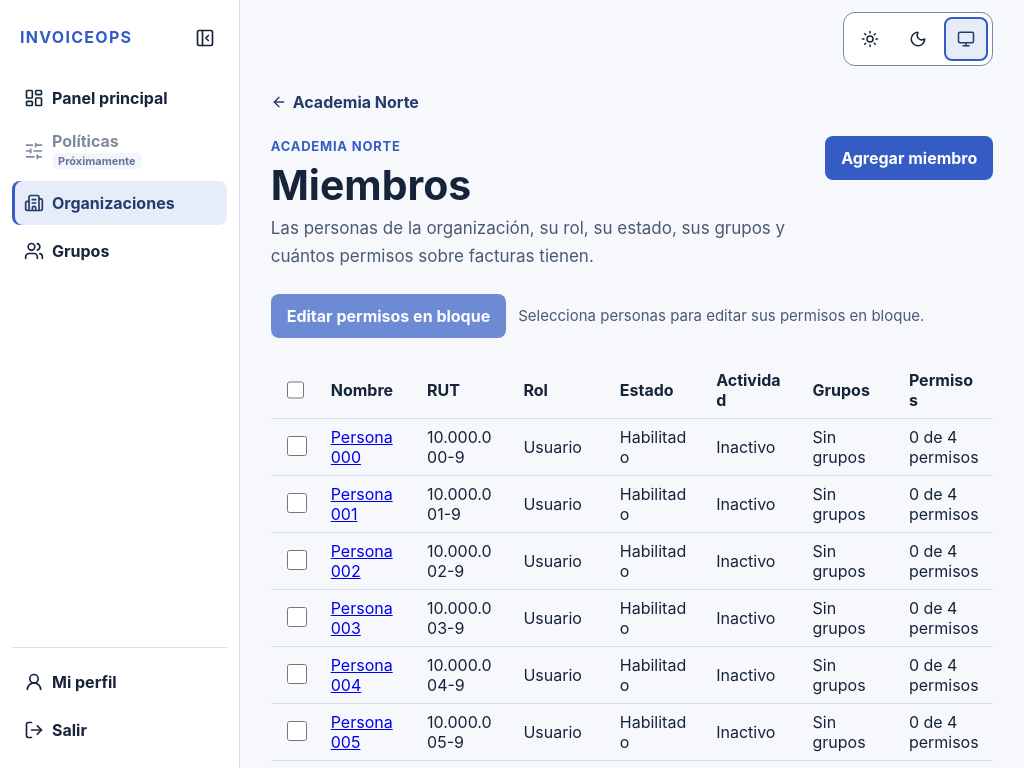
members lists › opens the bulk screen with exactly 200 ids
Click the checkbox named "Seleccionar todos en esta página". click: [295, 390]
box: [287,380,304,400]
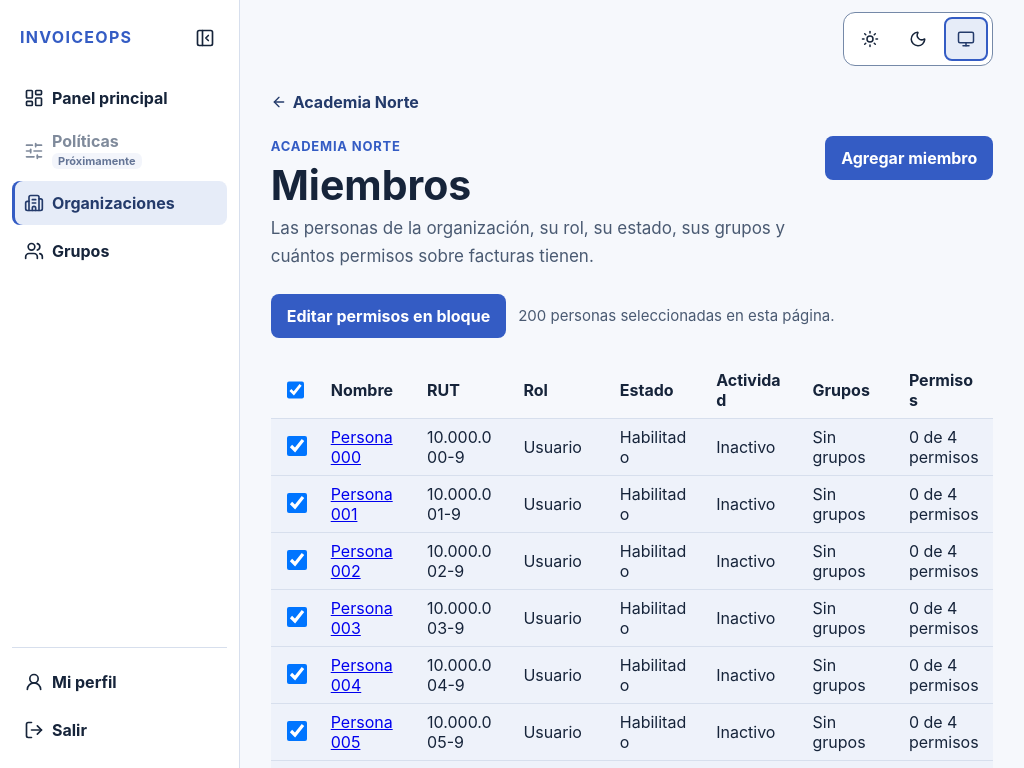
Click the button "Editar permisos en bloque". click: [388, 316]
box: [271,294,506,338]
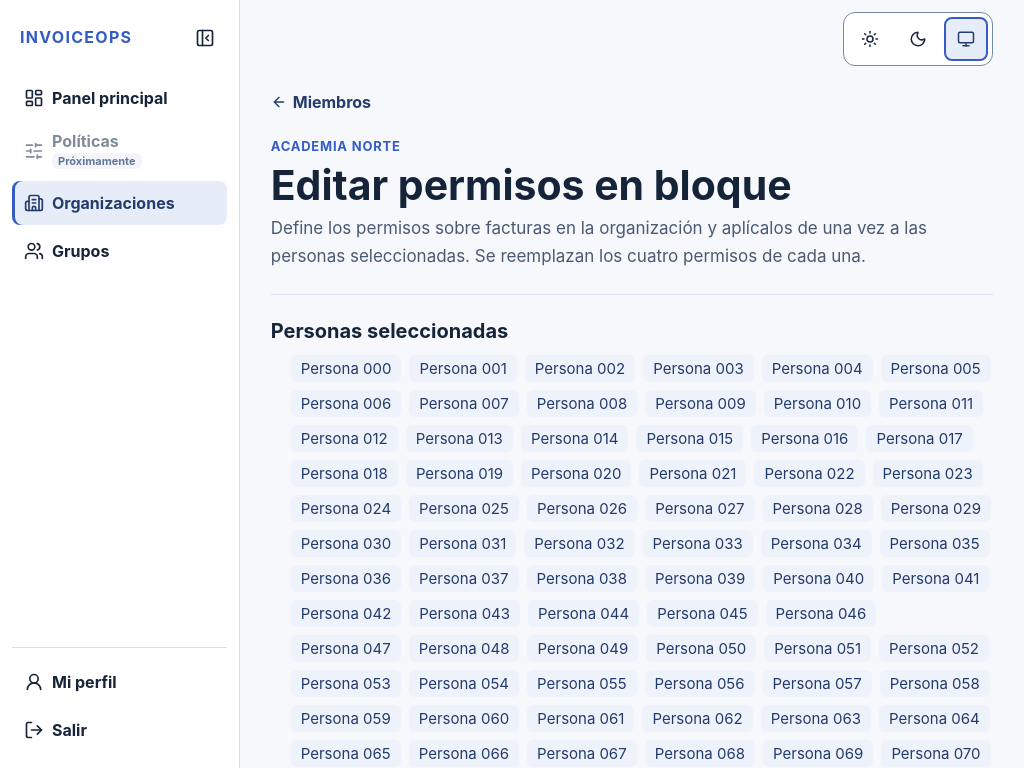
Now the text "Define los permisos sobre facturas en la organización y aplícalos de una vez a las personas seleccionadas. Se reemplazan" is shown, box [271,218,927,266]
